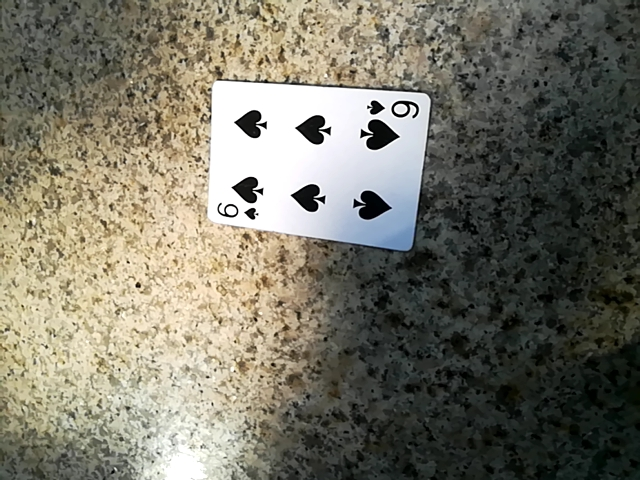ht 6: (194, 77, 422, 252)
